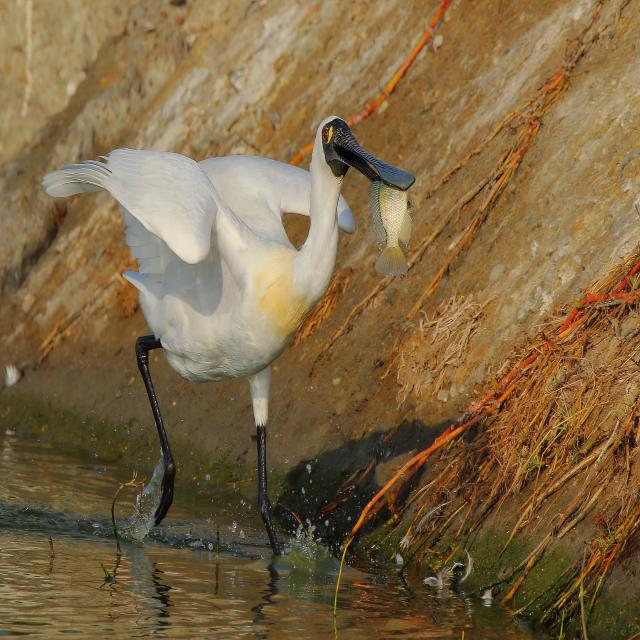Black-faced spoonbill: (43, 116, 414, 554)
